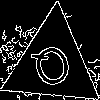Q: (27, 38, 79, 99)
